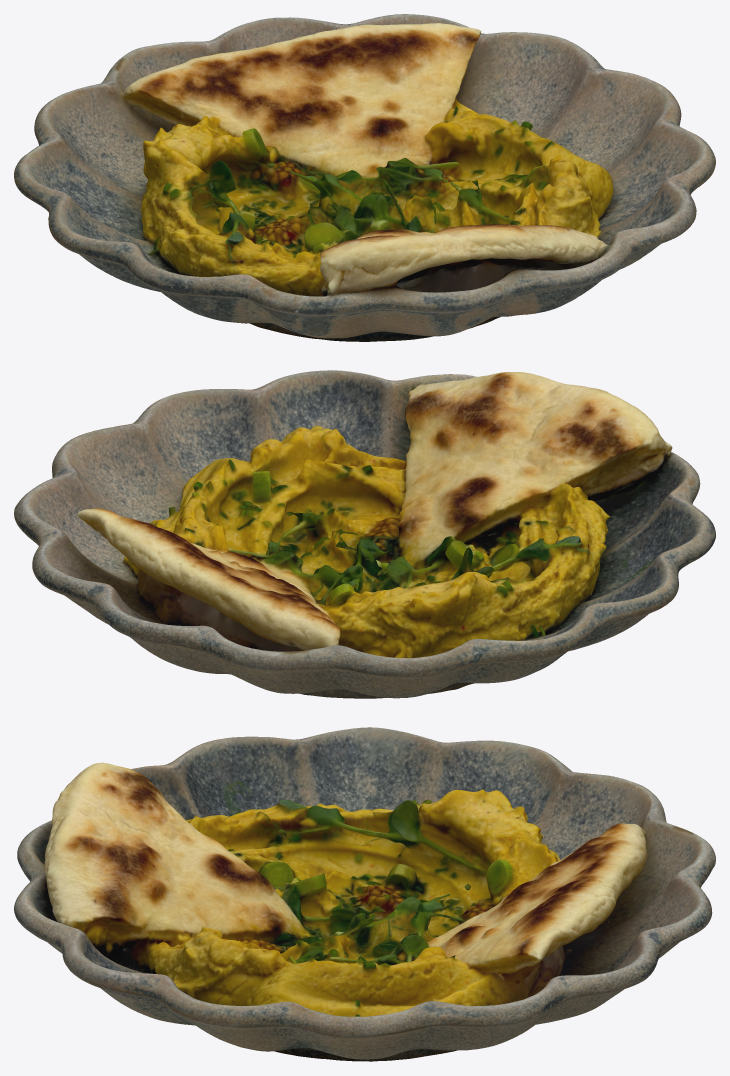
The model's file is houmous.glb.
The picture shows the model from 3 angles, top to bottom: view 1: azimuth 30°, elevation 25°; view 2: azimuth 150°, elevation 25°; view 3: azimuth 270°, elevation 25°; orthographic projection.
Visible parts, largest first — view 1: _8F4E5B3F_99E4_40A0_A9D5_16A1783E4077; view 2: _8F4E5B3F_99E4_40A0_A9D5_16A1783E4077; view 3: _8F4E5B3F_99E4_40A0_A9D5_16A1783E4077.
Boxes of the visible parts, bbox=[...] form: _8F4E5B3F_99E4_40A0_A9D5_16A1783E4077: bbox=[14, 14, 715, 341]; _8F4E5B3F_99E4_40A0_A9D5_16A1783E4077: bbox=[14, 370, 715, 698]; _8F4E5B3F_99E4_40A0_A9D5_16A1783E4077: bbox=[14, 727, 715, 1061].
Bounding box in the file's own units: 0.1505 × 0.0356 × 0.1481.
Materials: 1 (1 with a texture image).
